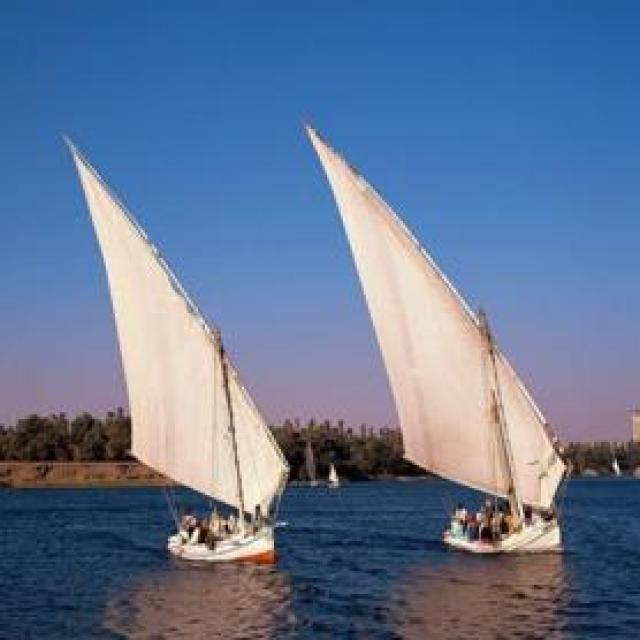sailboat: (300, 109, 578, 560), (62, 125, 297, 561)
